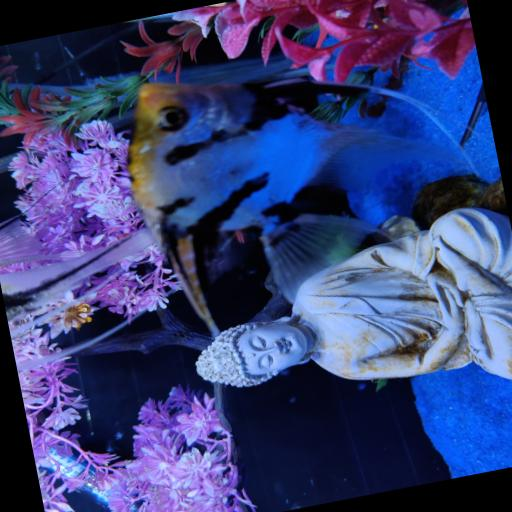Fish: (129, 80, 427, 334), (0, 214, 153, 320), (0, 228, 153, 320)
